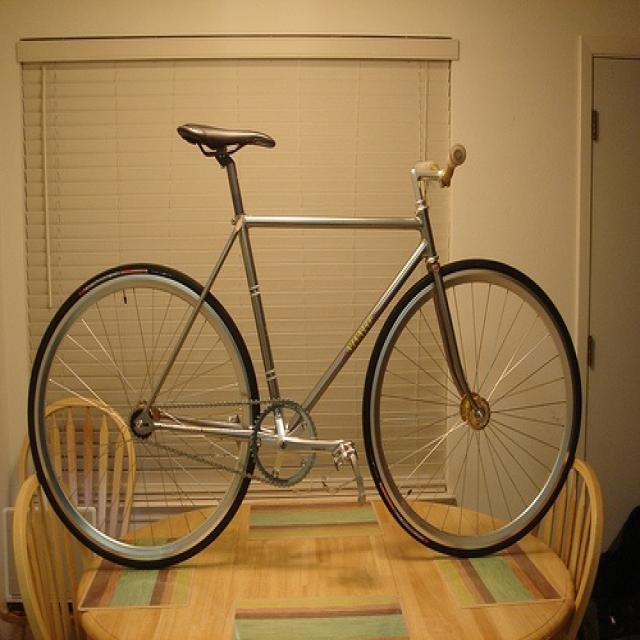bicycle: (24, 102, 603, 564)
chair: (14, 398, 141, 541), (524, 458, 606, 638), (14, 471, 85, 638)
diningtable: (73, 485, 576, 638)
